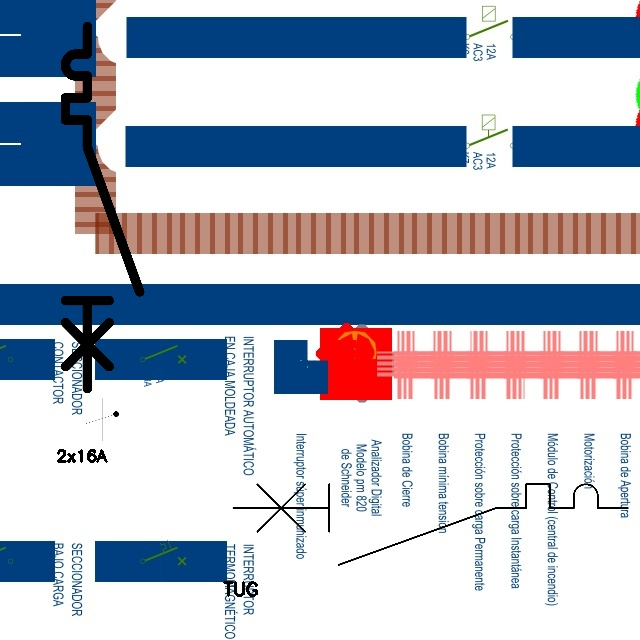interruptor_termomagnetico: (223, 474, 638, 575), (56, 17, 149, 397)
